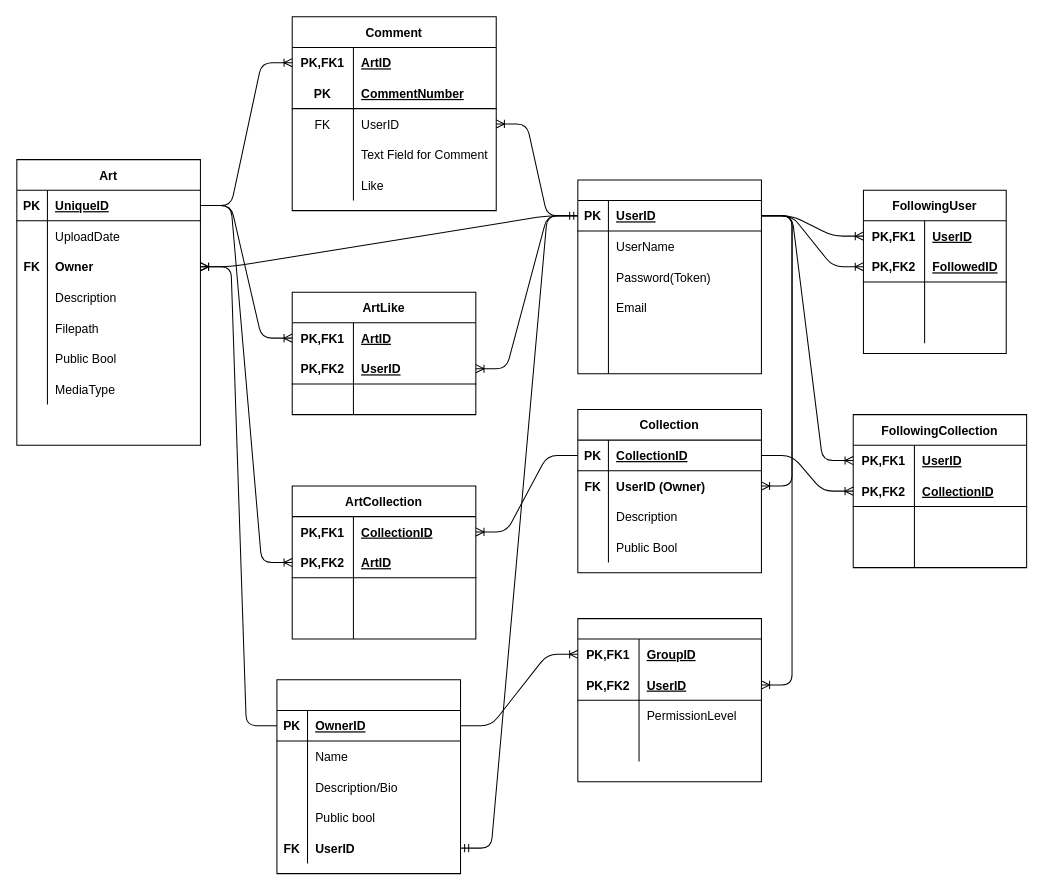
The diagram is 1043 pixels wide and 890 high, and some of its shapes have lost their labels. The shapes that lost their labels are listed below. From the top down, each one's box as (x1, y1, x2, y2) in pixels, then its label:
(577, 179, 761, 374): User : Identity User
(577, 618, 761, 782): GroupMembers
(276, 679, 461, 874): Group : Owner
